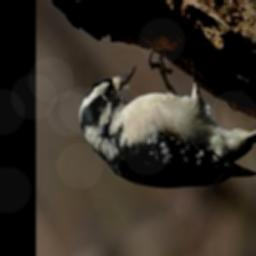Woodpecker: (79, 49, 256, 187)
